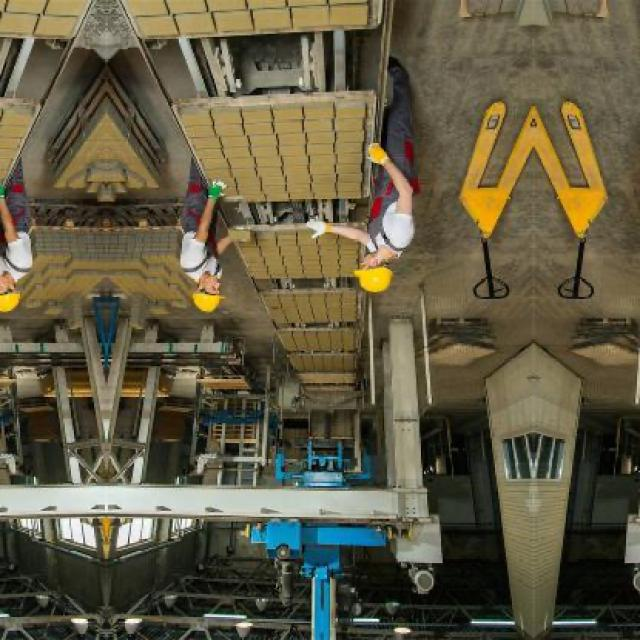con casco: (356, 234, 418, 307), (172, 253, 232, 316), (0, 256, 40, 324)
